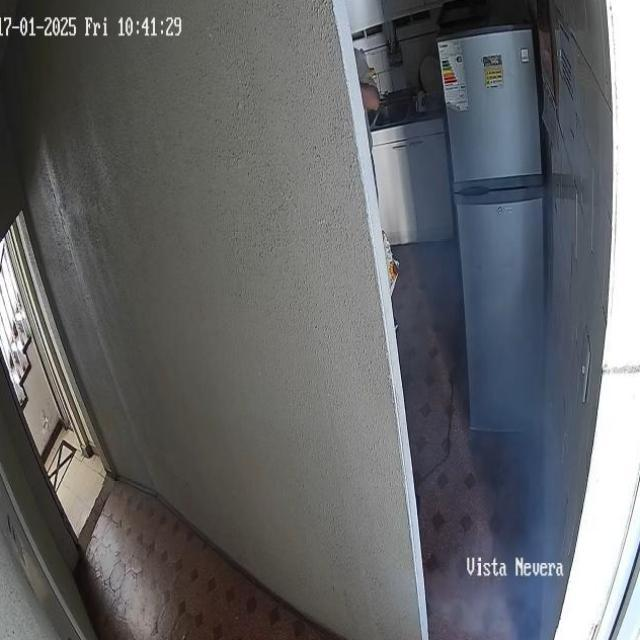fire: (419, 321, 561, 640)
